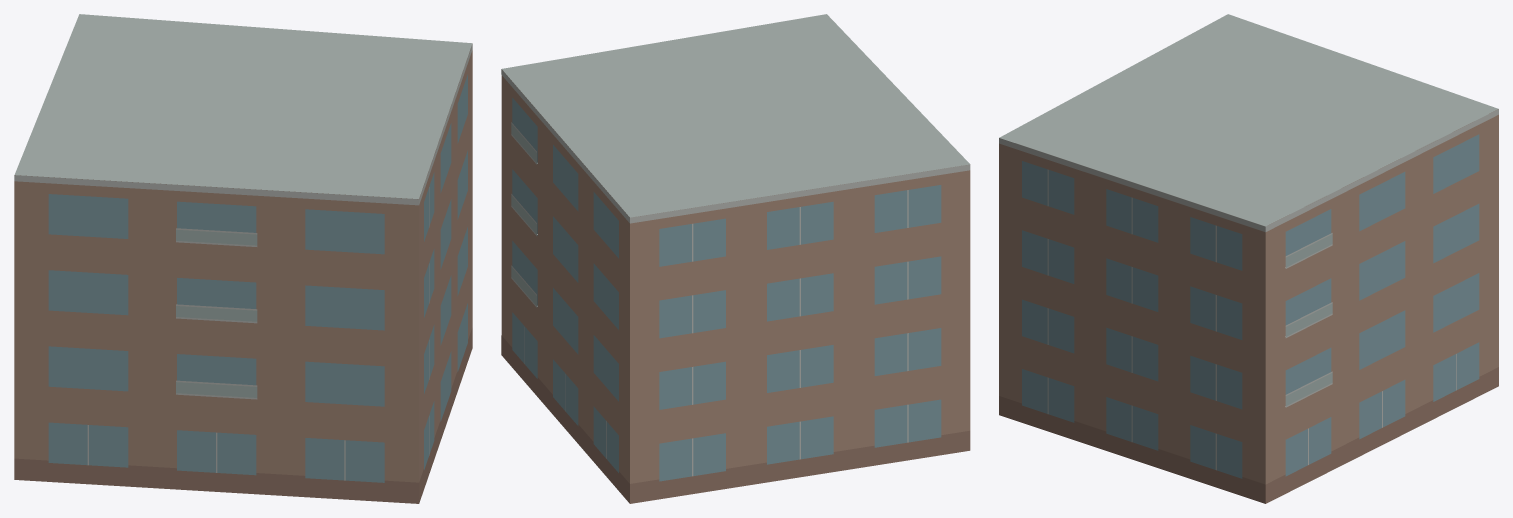
Rendered from survey-upis-32851464.glb.
3 renders of one model, left to right at view 1: azimuth 30°, elevation 25°; view 2: azimuth 150°, elevation 25°; view 3: azimuth 270°, elevation 25°, orthographic. The views are drawn at different scales.
Visible parts, largest first — view 1: survey-upis-32851464.tmp; view 2: survey-upis-32851464.tmp; view 3: survey-upis-32851464.tmp.
Part boxes in pixels (x1=…): survey-upis-32851464.tmp: x1=14, y1=14, x2=472, y2=503; survey-upis-32851464.tmp: x1=501, y1=14, x2=970, y2=503; survey-upis-32851464.tmp: x1=999, y1=14, x2=1498, y2=503.
Size of the model in its own units: 19.57 by 11.9 by 19.44.
